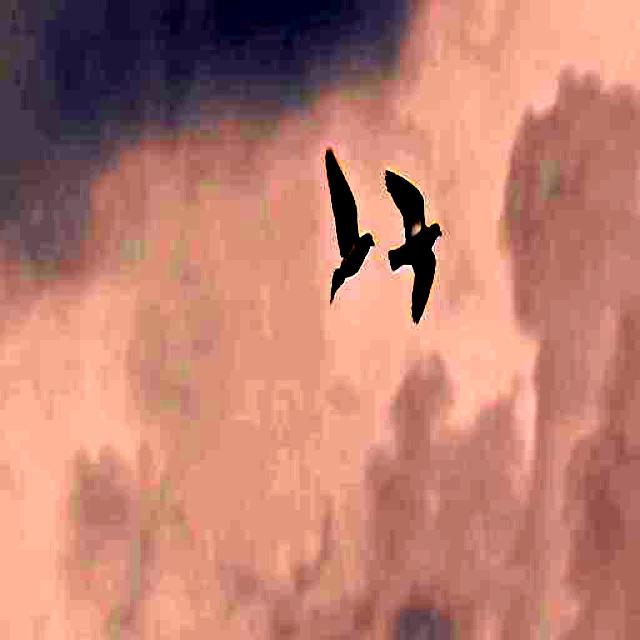airplane: (375, 94, 448, 350), (319, 129, 380, 320)
